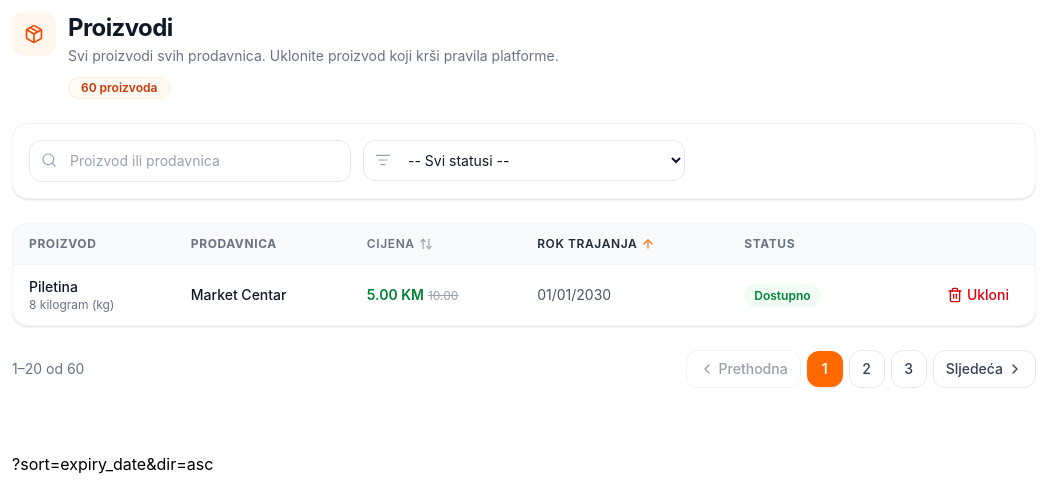
Test: sortable admin tables › keeps the sort when the page changes
This screenshot has width=1048, height=491.
expect the text "Piletina" is shown: met, box [29,278,78,295]
Click the button "Sljedeća".
click(984, 369)  # box [933,350,1036,388]
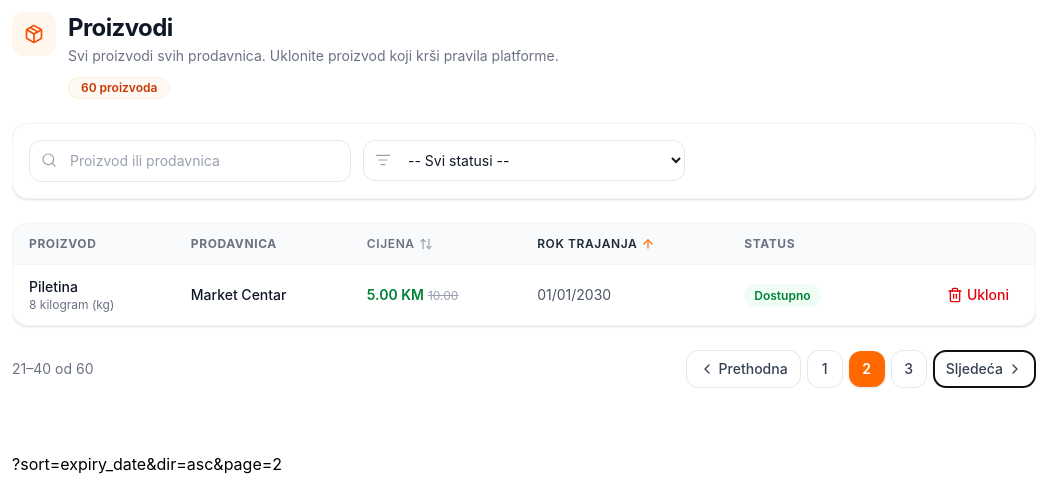
expect the text with test id "search" reads "?sort=expiry_date&dir=asc&page=2": met, box [12,454,282,474]
